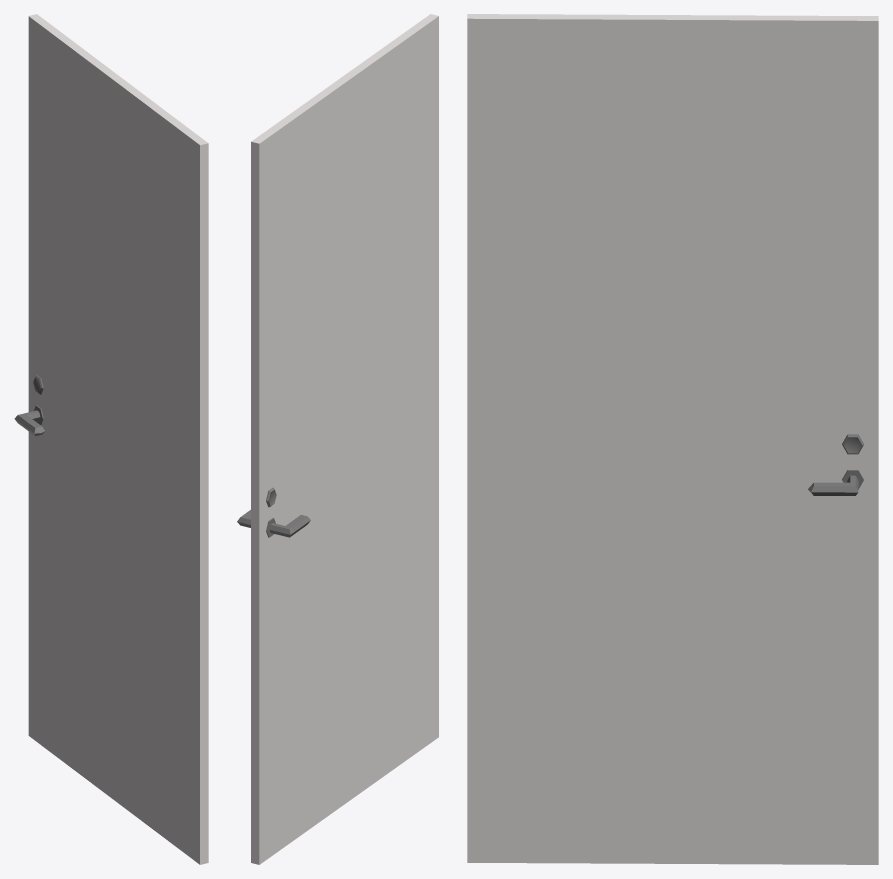
File: SW_corridor__R_lobby_R_Aula_Ovi_032.FBX
3 renders of one model, left to right at view 1: azimuth 30°, elevation 25°; view 2: azimuth 150°, elevation 25°; view 3: azimuth 270°, elevation 25°, orthographic. The views are drawn at different scales.
Visible parts, largest first — view 1: SW_corridor__R_lobby_R_Aula_Ovi_032; view 2: SW_corridor__R_lobby_R_Aula_Ovi_032; view 3: SW_corridor__R_lobby_R_Aula_Ovi_032.
Part boxes in pixels (x1,y1,x2,y2): SW_corridor__R_lobby_R_Aula_Ovi_032: (14,14,208,864); SW_corridor__R_lobby_R_Aula_Ovi_032: (237,14,438,864); SW_corridor__R_lobby_R_Aula_Ovi_032: (467,14,878,864).
Size of the model in its own units: 16.05 by 90.57 by 205.
